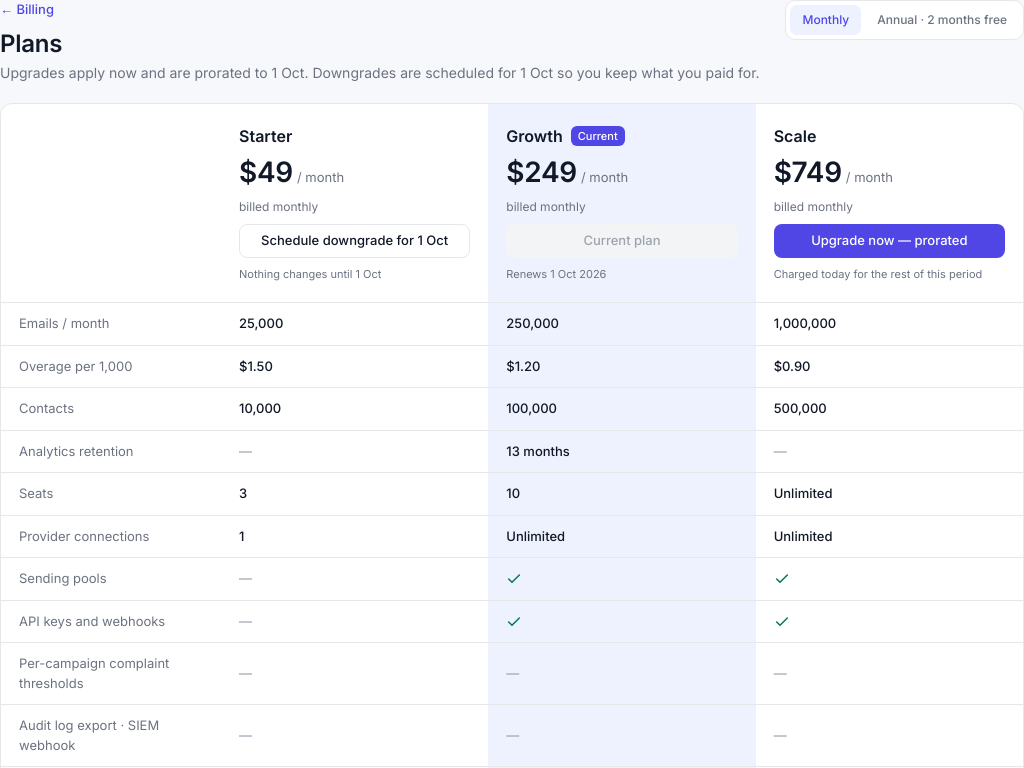
Test case: a blocked downgrade (I3) › lists every item that is over the limit, with a way to fix each
Click the button "Schedule downgrade for 1 Oct" at (355, 241), box [239,224,470,258]
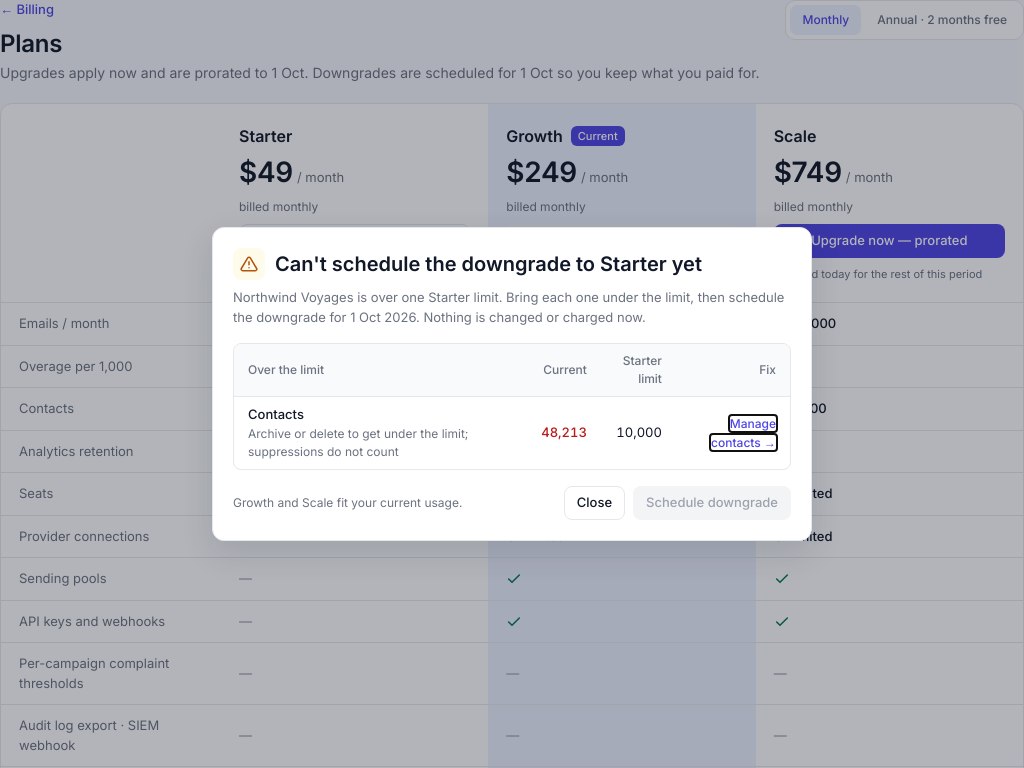
Check: the dialog shows "Can't schedule the downgrade to Starter yet", box [212,227,812,541]
Check: the text "48,213" is shown, box [533,397,595,469]
Check: the text "10,000" is shown, box [595,397,670,469]
